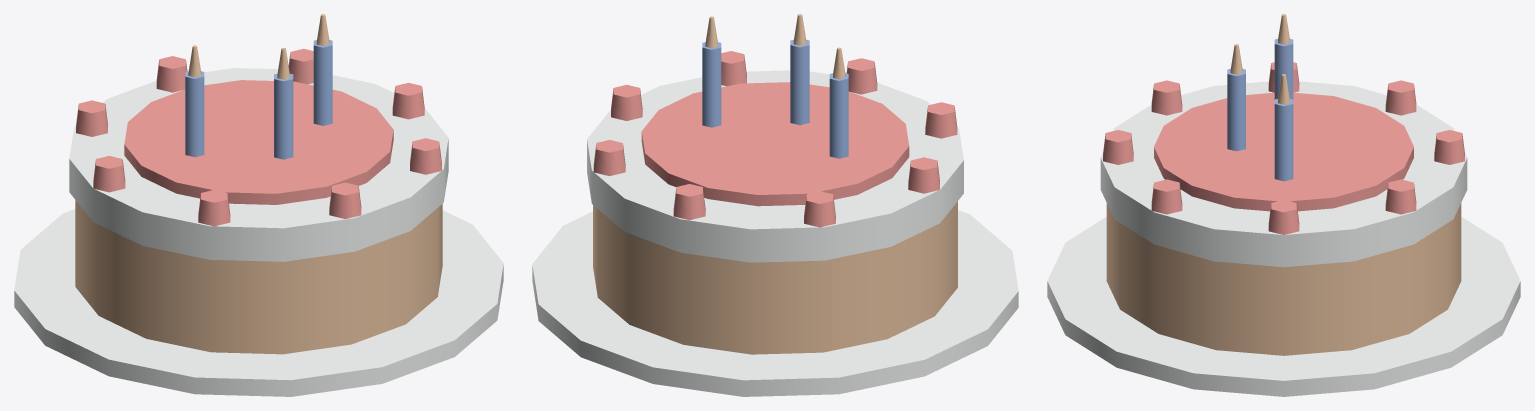
The model's file is birthdayCake.glb.
3 renders of one model, left to right at view 1: azimuth 30°, elevation 25°; view 2: azimuth 150°, elevation 25°; view 3: azimuth 270°, elevation 25°, orthographic. The views are drawn at different scales.
Parts seen in each view (by area): view 1: birthdayCake; view 2: birthdayCake; view 3: birthdayCake.
Part boxes in pixels (x1=…): birthdayCake: x1=14, y1=14, x2=503, y2=396; birthdayCake: x1=532, y1=14, x2=1018, y2=396; birthdayCake: x1=1047, y1=14, x2=1520, y2=396.
Bounding box in the file's own units: 0.4 × 0.235 × 0.4.
